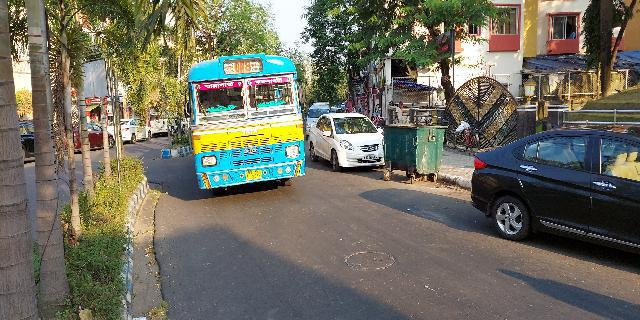Bus: (181, 56, 311, 195)
Car: (463, 121, 640, 270), (308, 108, 383, 177)
